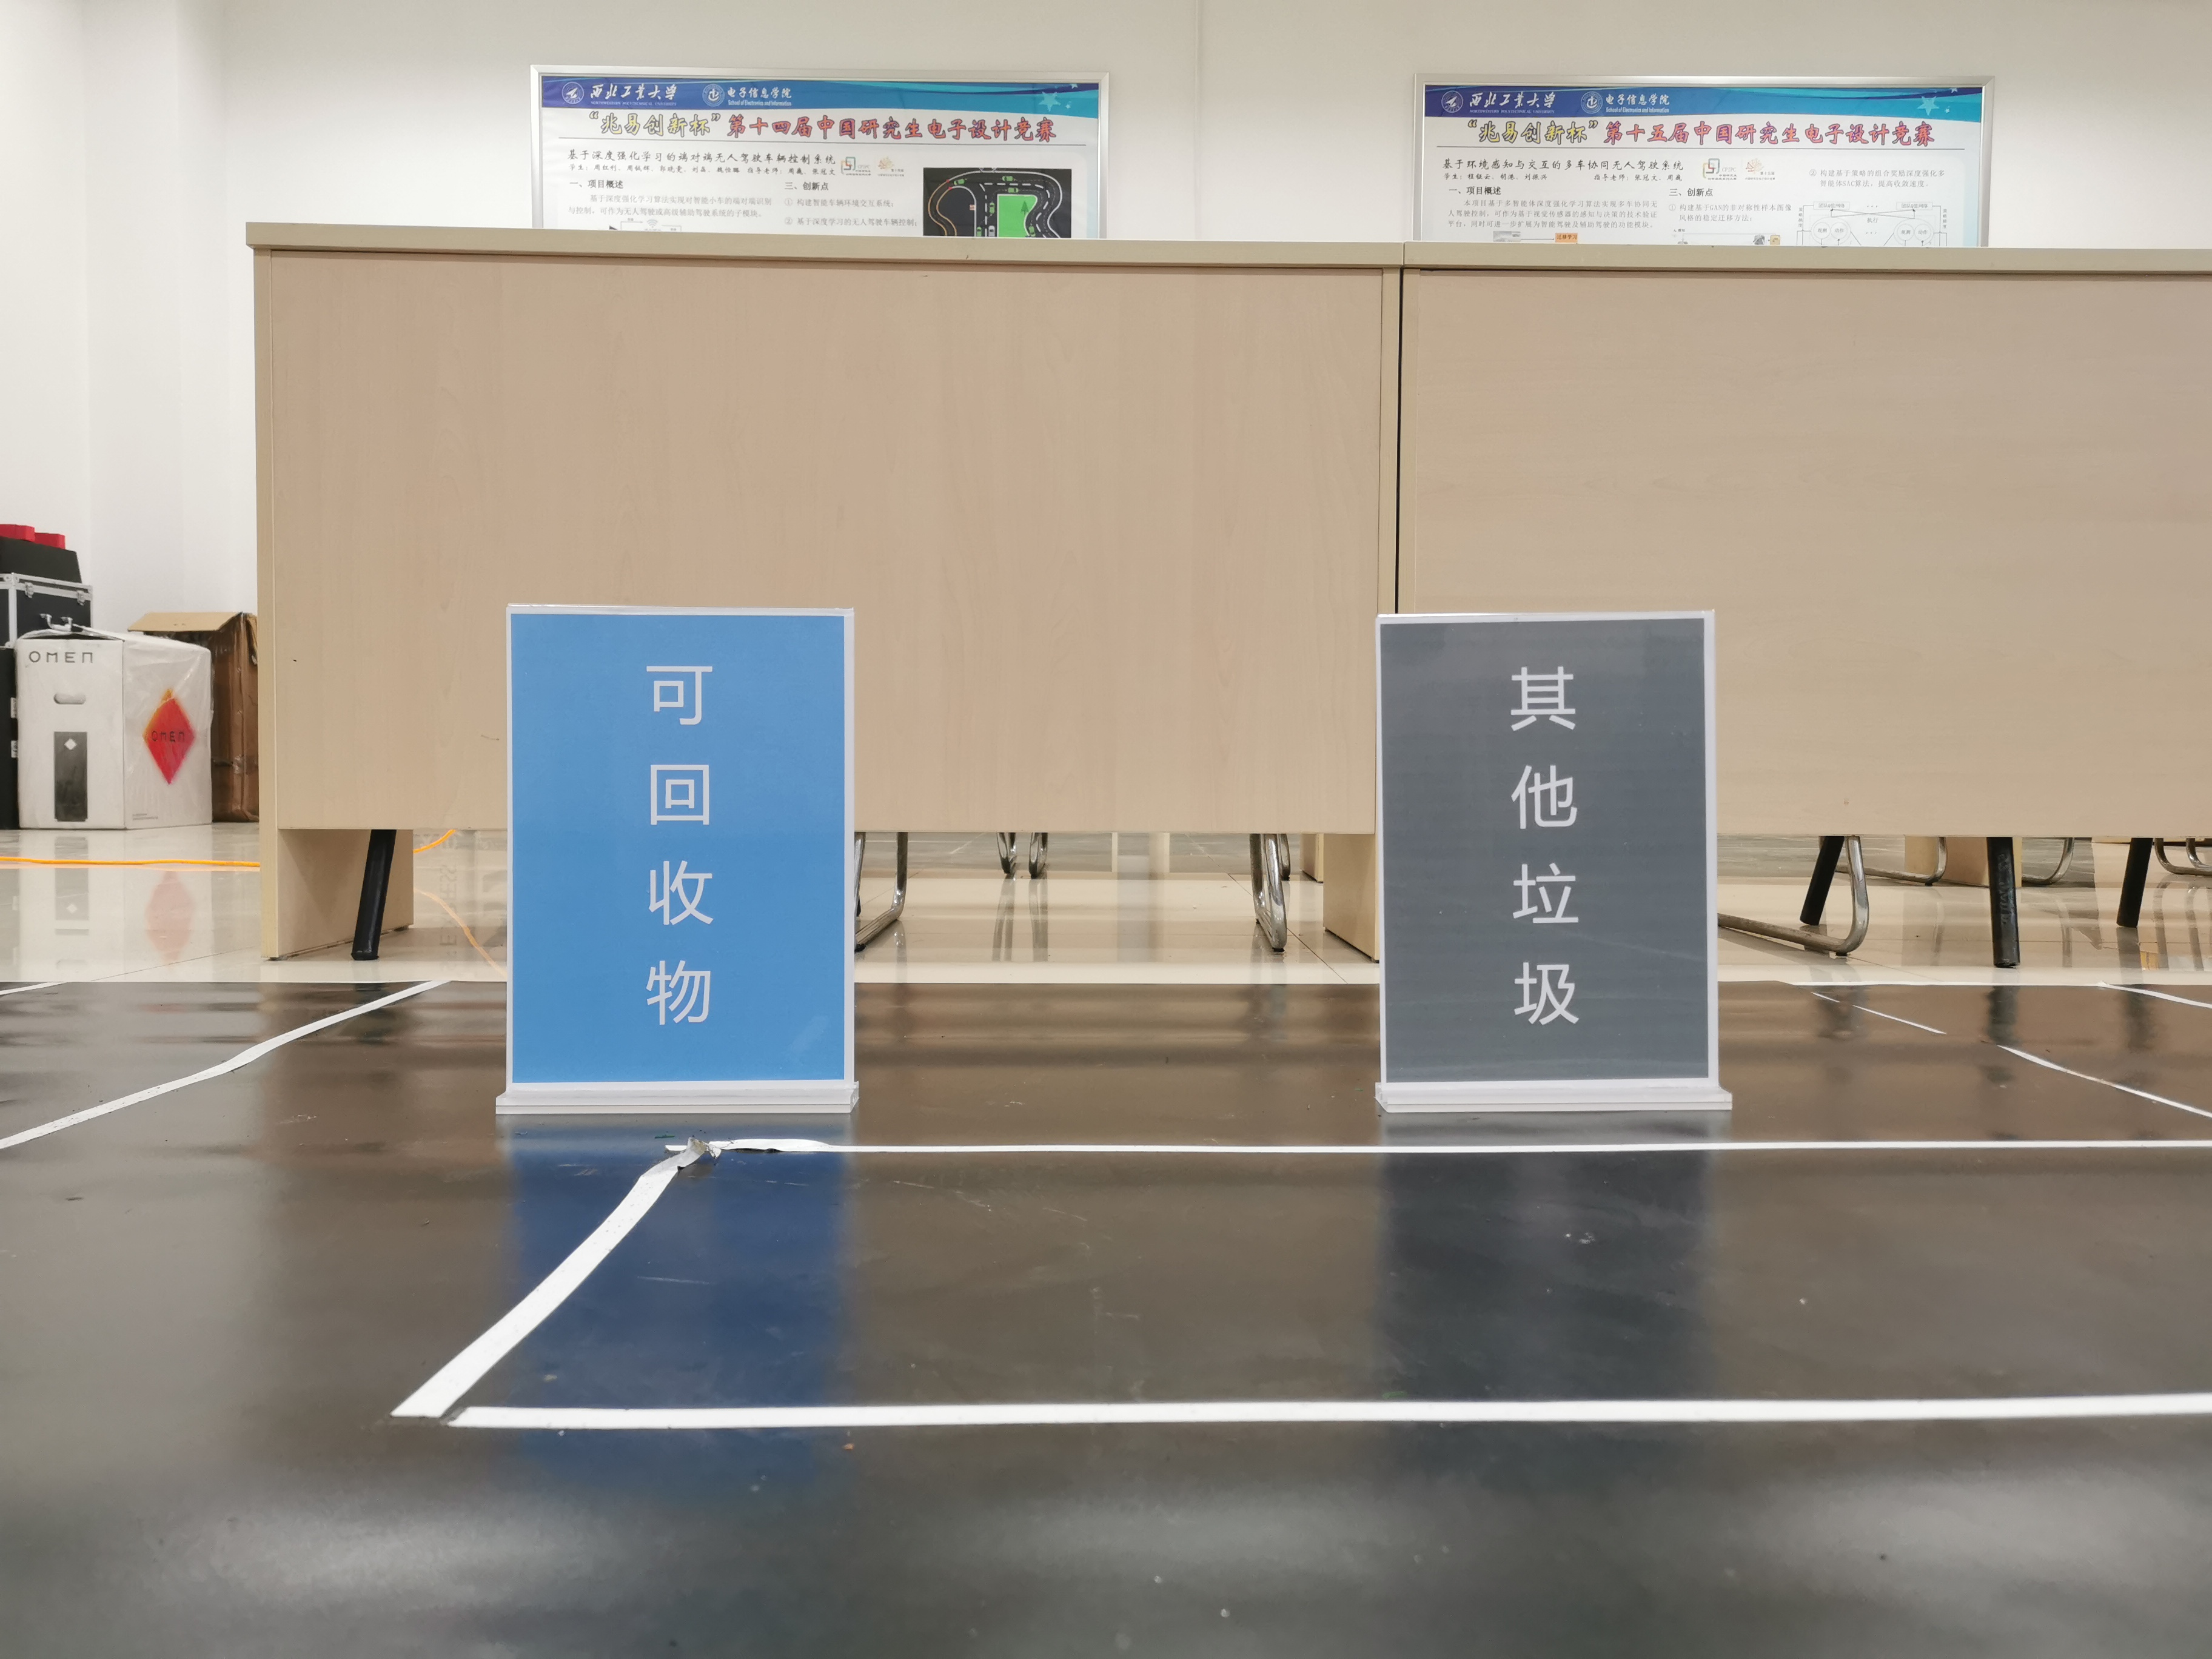black: (1388, 619, 1705, 1073)
blue: (521, 622, 840, 1079)
